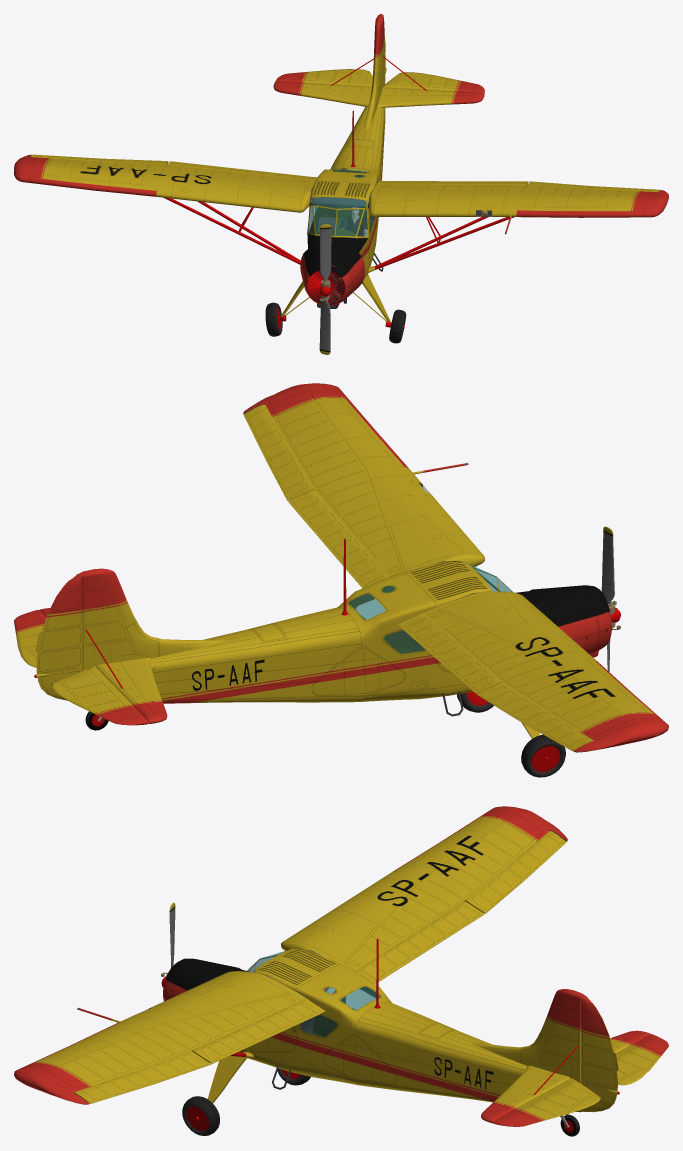
3 renders of one model, top to bottom at view 1: azimuth 30°, elevation 25°; view 2: azimuth 150°, elevation 25°; view 3: azimuth 270°, elevation 25°, orthographic. The views are drawn at different scales.
Visible parts, largest first — view 1: krilo_right-FACES, krilo_left-FACES, fuzel-FACES (×2), kabina-FACES (×2), kapot-FACES, gor_oper-FACES, gor_oper01-FACES, rul_vis-FACES, rul_vis01-FACES, kil-FACES, eleron_01-FACES, Box39-FACES (+4 smaller); view 2: fuzel-FACES (×2), krilo_left-FACES, krilo_right-FACES, kil-FACES, rul_napravl-FACES, kapot-FACES, eleron_-FACES, rul_vis01-FACES, eleron_01-FACES, eleron-FACES, eleron01-FACES, kabina-FACES (×2) (+5 smaller); view 3: fuzel-FACES (×2), krilo_right-FACES, krilo_left-FACES, kil-FACES, rul_napravl-FACES, eleron_01-FACES, eleron_-FACES, eleron01-FACES, rul_vis-FACES, eleron-FACES, gor_oper-FACES, kabina-FACES (×2) (+5 smaller).
Part boxes in pixels (x1=…): krilo_right-FACES: x1=14, y1=154, x2=339, y2=212; krilo_left-FACES: x1=339, y1=184, x2=668, y2=217; fuzel-FACES (×2): x1=307, y1=106, x2=385, y2=277; kabina-FACES (×2): x1=307, y1=169, x2=375, y2=245; kapot-FACES: x1=300, y1=242, x2=365, y2=305; gor_oper-FACES: x1=377, y1=87, x2=484, y2=107; gor_oper01-FACES: x1=273, y1=82, x2=371, y2=106; rul_vis-FACES: x1=383, y1=72, x2=484, y2=94; rul_vis01-FACES: x1=274, y1=69, x2=372, y2=86; kil-FACES: x1=364, y1=14, x2=383, y2=129; eleron_01-FACES: x1=167, y1=161, x2=317, y2=180; Box39-FACES: x1=320, y1=224, x2=331, y2=280; fuzel-FACES (×2): x1=150, y1=560, x2=554, y2=703; krilo_left-FACES: x1=243, y1=383, x2=484, y2=577; krilo_right-FACES: x1=423, y1=591, x2=668, y2=752; kil-FACES: x1=80, y1=568, x2=224, y2=670; rul_napravl-FACES: x1=35, y1=573, x2=82, y2=700; kapot-FACES: x1=530, y1=585, x2=611, y2=654; eleron_-FACES: x1=288, y1=490, x2=388, y2=588; rul_vis01-FACES: x1=51, y1=666, x2=148, y2=725; eleron_01-FACES: x1=398, y1=613, x2=502, y2=693; eleron-FACES: x1=243, y1=404, x2=314, y2=500; eleron01-FACES: x1=477, y1=682, x2=593, y2=750; kabina-FACES (×2): x1=348, y1=564, x2=512, y2=653; fuzel-FACES (×2): x1=219, y1=948, x2=581, y2=1112; krilo_right-FACES: x1=281, y1=806, x2=567, y2=970; krilo_left-FACES: x1=14, y1=971, x2=305, y2=1104; kil-FACES: x1=471, y1=989, x2=583, y2=1083; rul_napravl-FACES: x1=581, y1=995, x2=618, y2=1112; eleron_01-FACES: x1=355, y1=901, x2=484, y2=983; eleron_-FACES: x1=191, y1=998, x2=325, y2=1063; eleron01-FACES: x1=463, y1=831, x2=566, y2=913; rul_vis-FACES: x1=493, y1=1078, x2=600, y2=1126; eleron-FACES: x1=73, y1=1051, x2=211, y2=1103; gor_oper-FACES: x1=481, y1=1065, x2=570, y2=1123; kabina-FACES (×2): x1=247, y1=952, x2=380, y2=1037.
Bounding box in the file's own units: 10.84 × 3.92 × 10.39.
38 materials, 26 textured.
